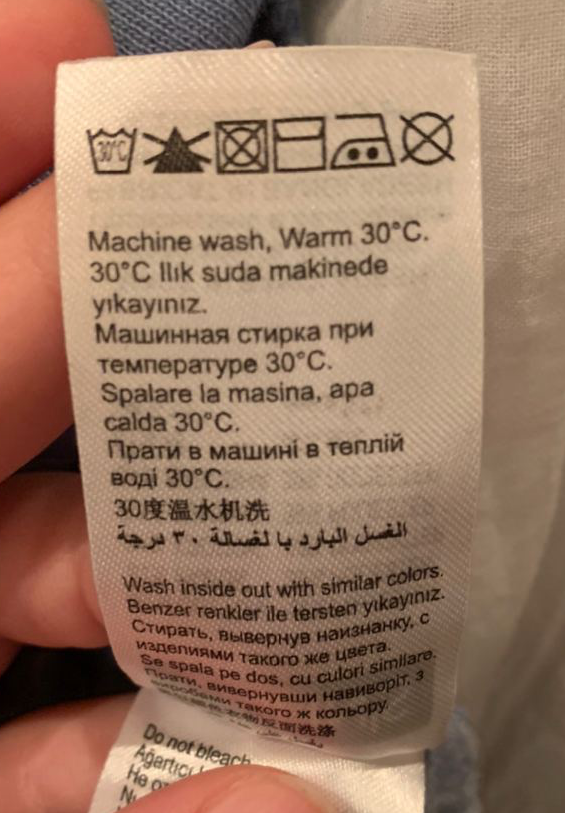do_not_bleach: (139, 120, 213, 176)
do_not_dry_clean: (396, 106, 459, 169)
do_not_tumble_drying: (212, 116, 272, 175)
ironing_at_med_temp: (328, 107, 397, 170)
line_dry: (270, 110, 329, 176)
wash_at_or_below_30: (85, 122, 138, 179)
